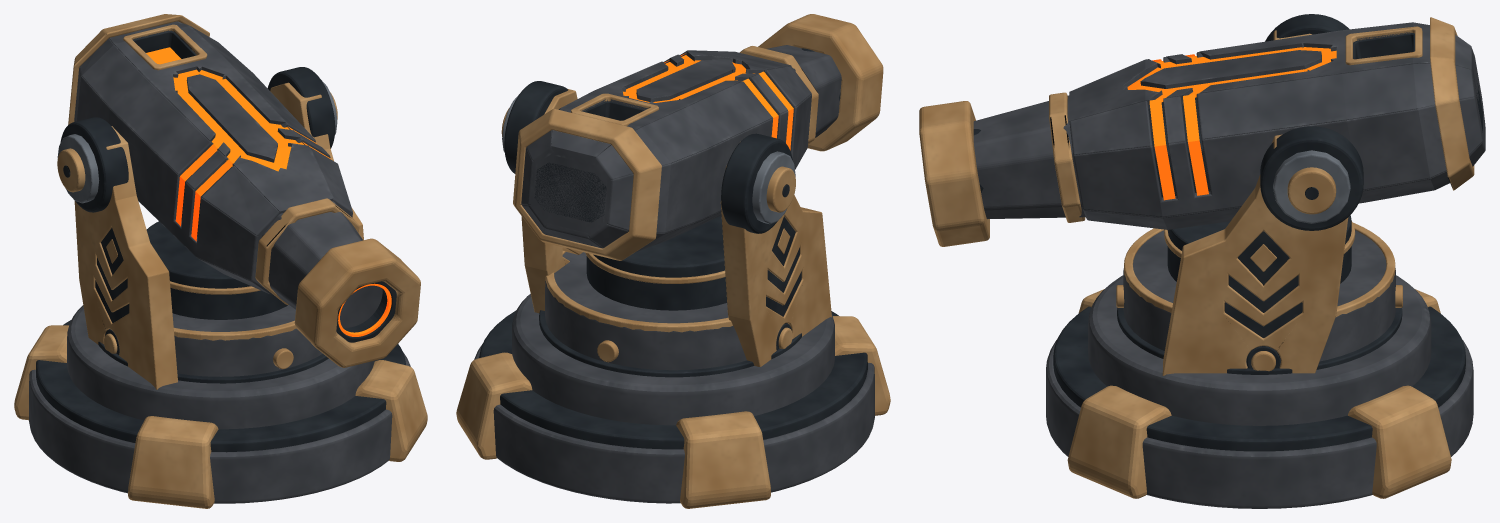
Rendered from magic.glb.
3 views of the same model, side by side, from view 1: azimuth 30°, elevation 25°; view 2: azimuth 150°, elevation 25°; view 3: azimuth 270°, elevation 25° (orthographic). The views are drawn at different scales.
Parts seen in each view (by area): view 1: turret_barrel_approved_geometry, turret_head_approved_geometry, turret_root_approved_geometry; view 2: turret_head_approved_geometry, turret_barrel_approved_geometry, turret_root_approved_geometry; view 3: turret_barrel_approved_geometry, turret_head_approved_geometry, turret_root_approved_geometry.
Boxes of the visible parts, <box> form: turret_barrel_approved_geometry: <box>68,14,420,367</box>; turret_head_approved_geometry: <box>57,67,374,429</box>; turret_root_approved_geometry: <box>14,320,427,508</box>; turret_head_approved_geometry: <box>501,81,834,425</box>; turret_barrel_approved_geometry: <box>513,14,883,260</box>; turret_root_approved_geometry: <box>456,310,890,508</box>; turret_barrel_approved_geometry: <box>919,17,1485,246</box>; turret_head_approved_geometry: <box>1088,14,1431,425</box>; turret_root_approved_geometry: <box>1046,289,1473,508</box>.
Bounding box in the file's own units: 0.774 × 0.7659 × 1.02.
5 materials, 4 textured.
